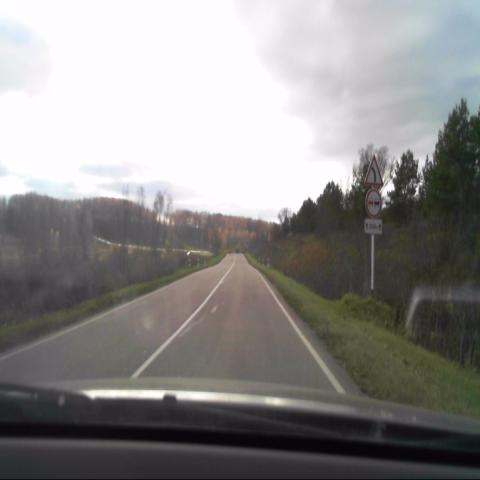1_11_1: (364, 153, 384, 185)
8_2_1: (365, 218, 382, 234)
